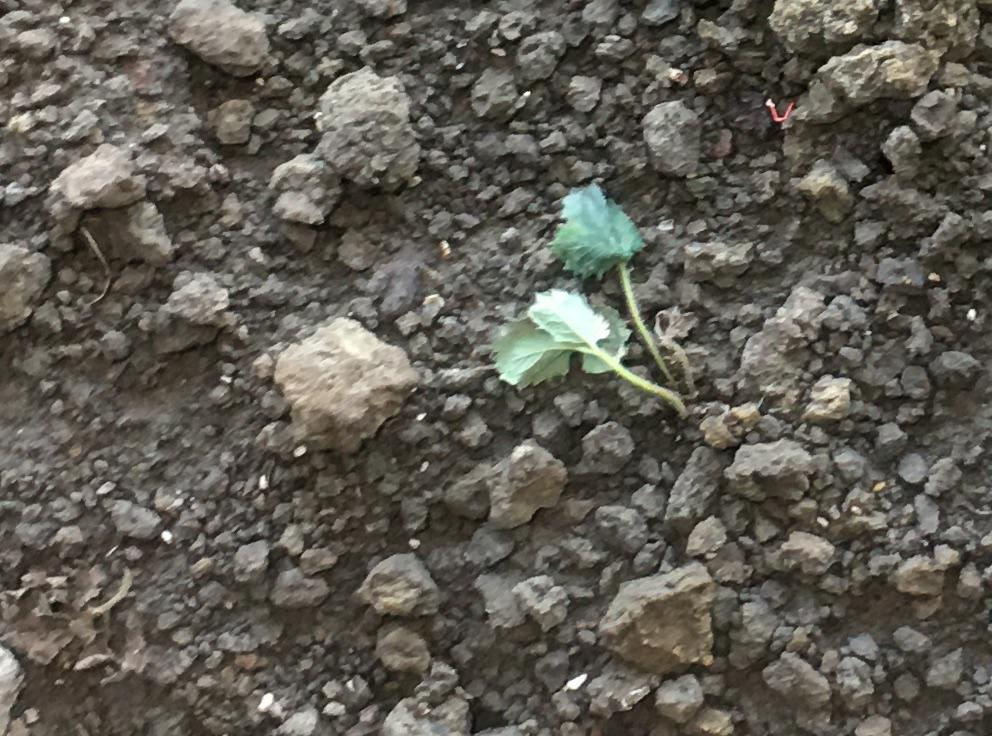block: (269, 318, 408, 443), (598, 564, 722, 677), (311, 73, 420, 194)
